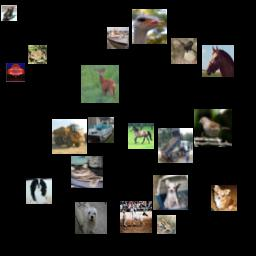automobile: (6, 63, 25, 82)
bird: (194, 109, 232, 147), (132, 9, 167, 44)
cat: (71, 156, 103, 188), (171, 38, 197, 64)
deer: (81, 65, 119, 103)
dog: (153, 175, 188, 210), (75, 202, 107, 234), (211, 185, 237, 211), (26, 178, 52, 204)
frog: (28, 45, 47, 64), (157, 215, 176, 234), (1, 5, 17, 21)
ship: (88, 117, 114, 143), (107, 27, 129, 49)
truck: (158, 128, 193, 163), (52, 119, 87, 154)
